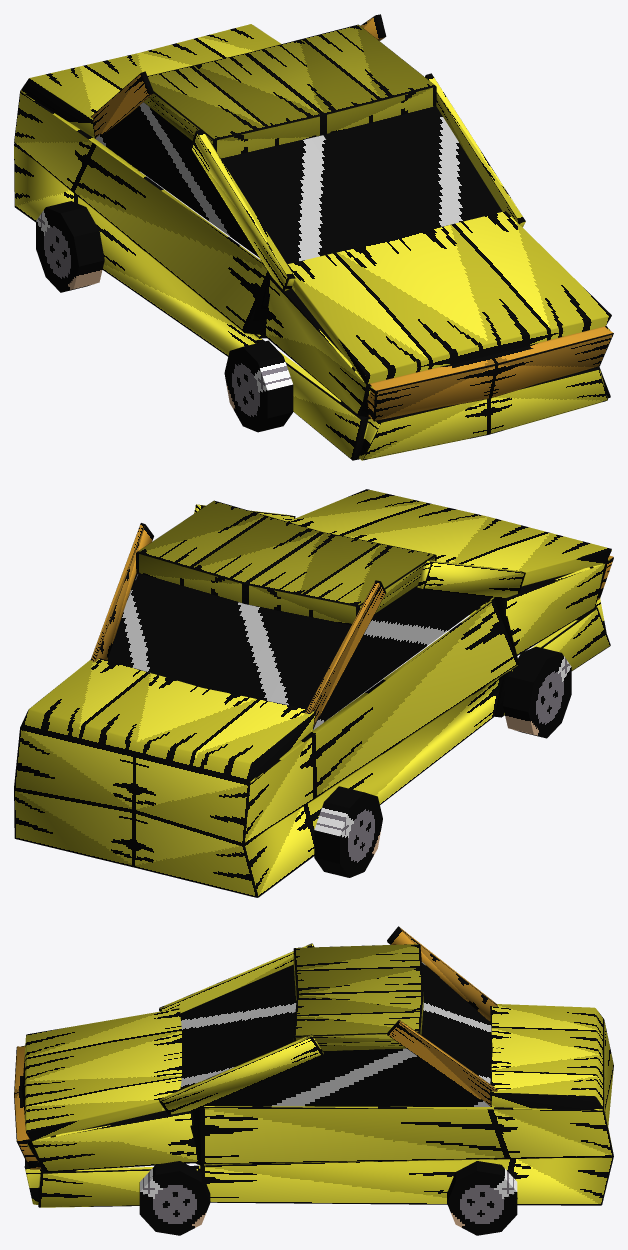
Rendered from car2.fbx.
The picture shows the model from 3 angles, top to bottom: view 1: azimuth 30°, elevation 25°; view 2: azimuth 150°, elevation 25°; view 3: azimuth 270°, elevation 25°; orthographic projection. The views are drawn at different scales.
Visible parts, largest first — view 1: Body, Windows, Supporters, Wheels.fr, Wheels.br; view 2: Body, Windows, Supporters, Wheels.br, Wheels.fr; view 3: Body, Windows, Supporters, Wheels.fl, Wheels.bl.
Part boxes in pixels (<box>): Body: <box>14,24,613,460</box>; Windows: <box>95,102,502,264</box>; Supporters: <box>91,14,525,291</box>; Wheels.fr: <box>224,340,293,432</box>; Wheels.br: <box>36,201,104,292</box>; Body: <box>14,489,613,897</box>; Windows: <box>107,572,492,729</box>; Supporters: <box>90,504,525,725</box>; Wheels.br: <box>314,786,382,877</box>; Wheels.fr: <box>503,646,571,738</box>; Body: <box>14,944,613,1207</box>; Windows: <box>180,962,492,1106</box>; Supporters: <box>159,926,497,1114</box>; Wheels.fl: <box>139,1161,210,1235</box>; Wheels.bl: <box>447,1161,517,1235</box>.
Bounding box in the file's own units: 167 × 130 × 350.
5 materials, 5 textured.
